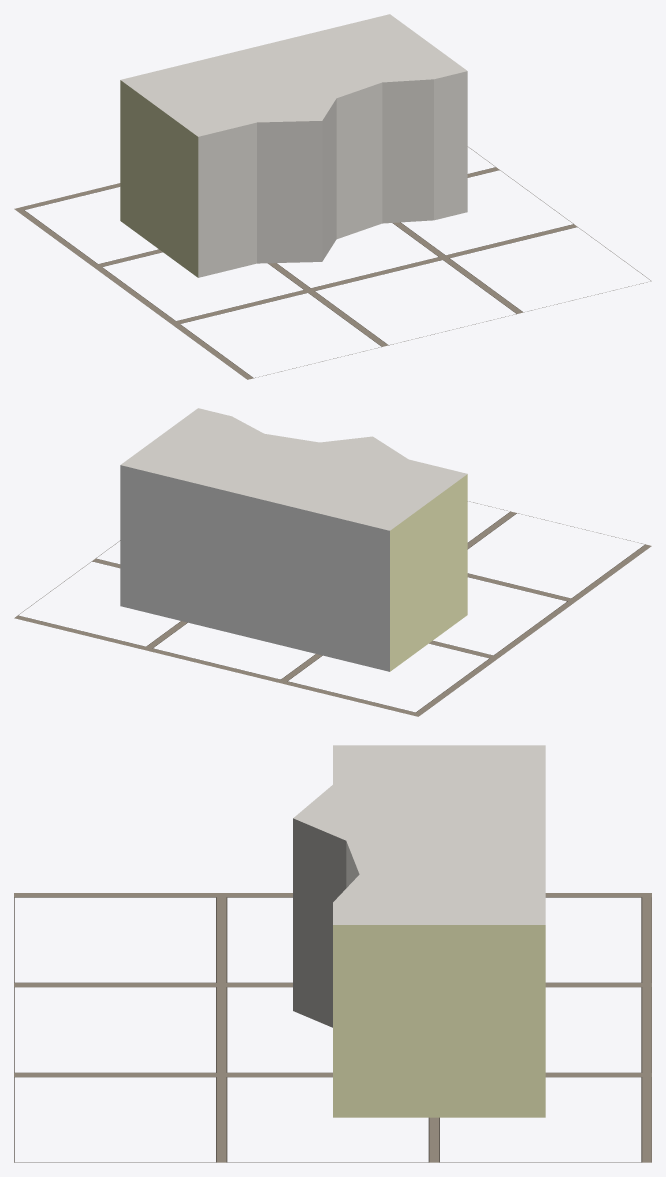
File: Cracked_Straight_2x2_2_Mid.glb
3 views of the same model, one above another, from view 1: azimuth 30°, elevation 25°; view 2: azimuth 150°, elevation 25°; view 3: azimuth 270°, elevation 25° (orthographic). The views are drawn at different scales.
Parts seen in each view (by area): view 1: Cracked_Straight_2x2_2_Mid, Floor; view 2: Cracked_Straight_2x2_2_Mid, Floor; view 3: Cracked_Straight_2x2_2_Mid, Floor.
Part boxes in pixels (x1,y1,x2,y2): Cracked_Straight_2x2_2_Mid: (120, 14, 467, 277); Floor: (14, 147, 651, 379); Cracked_Straight_2x2_2_Mid: (120, 408, 467, 671); Floor: (14, 501, 651, 716); Cracked_Straight_2x2_2_Mid: (293, 745, 545, 1117); Floor: (14, 893, 651, 1162).
Size of the model in its own units: 300 by 100 by 300.
Materials: 4 (1 with a texture image).
